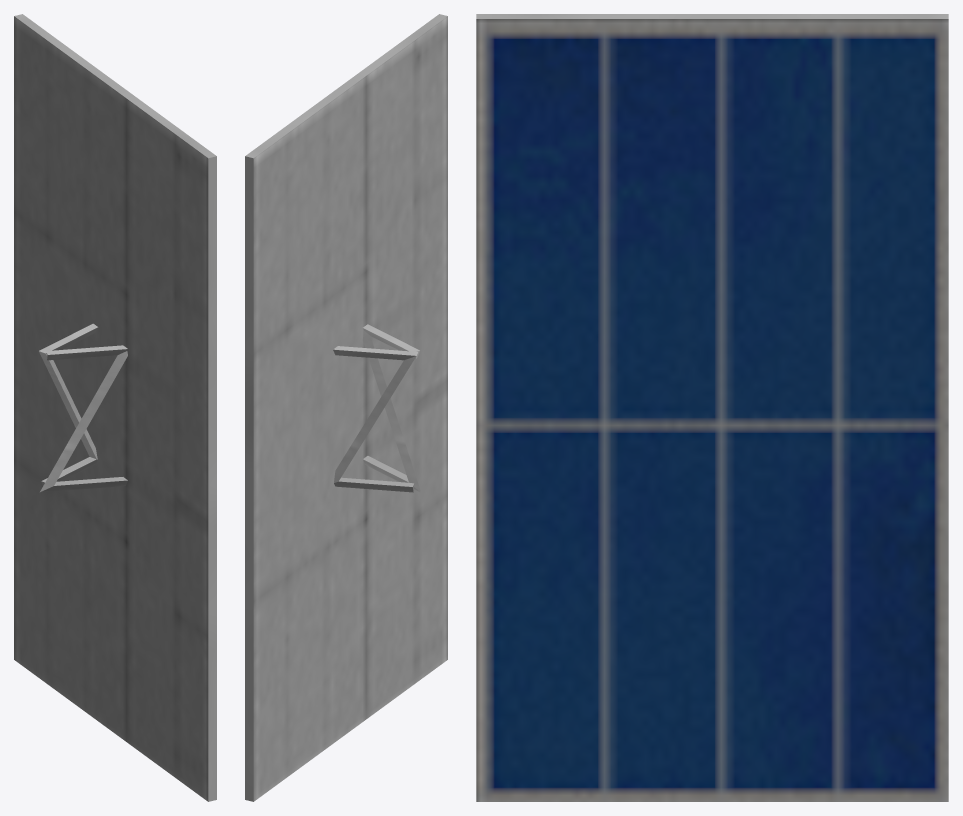
The model's file is solarpanel2.DAE.
3 renders of one model, left to right at view 1: azimuth 30°, elevation 25°; view 2: azimuth 150°, elevation 25°; view 3: azimuth 270°, elevation 25°, orthographic. The views are drawn at different scales.
Visible parts, largest first — view 1: Box01; view 2: Box01; view 3: Box01.
Part boxes in pixels (x1,y1,x2,y2): Box01: [14, 14, 216, 801]; Box01: [245, 14, 447, 801]; Box01: [476, 14, 948, 801].
Size of what is drawn, in the model's own units: 0.0667 by 0.5147 by 0.2816.
